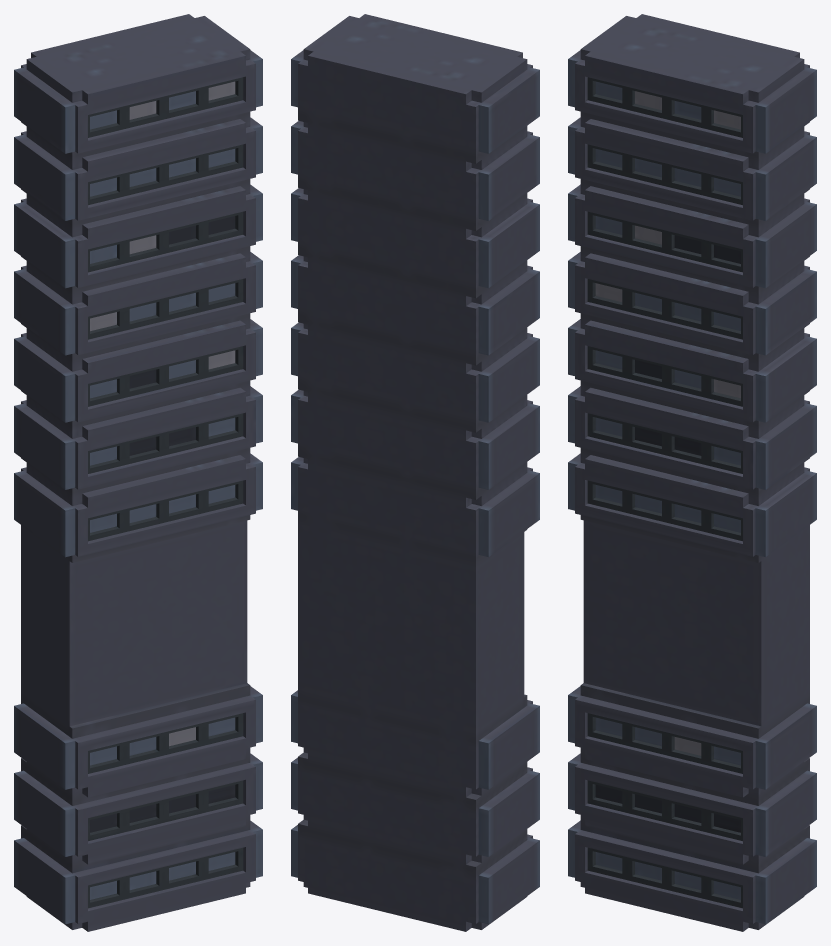
File: Building_3.glb
The picture shows the model from 3 angles, left to right: view 1: azimuth 30°, elevation 25°; view 2: azimuth 150°, elevation 25°; view 3: azimuth 330°, elevation 25°; orthographic projection.
Parts seen in each view (by area): view 1: Building_3; view 2: Building_3; view 3: Building_3.
Boxes of the visible parts, <box> form: Building_3: <box>14,14,262,931</box>; Building_3: <box>291,14,539,931</box>; Building_3: <box>568,14,816,931</box>.
Size of the model in its own units: 4 by 16.2 by 2.
Materials: 1 (1 with a texture image).
